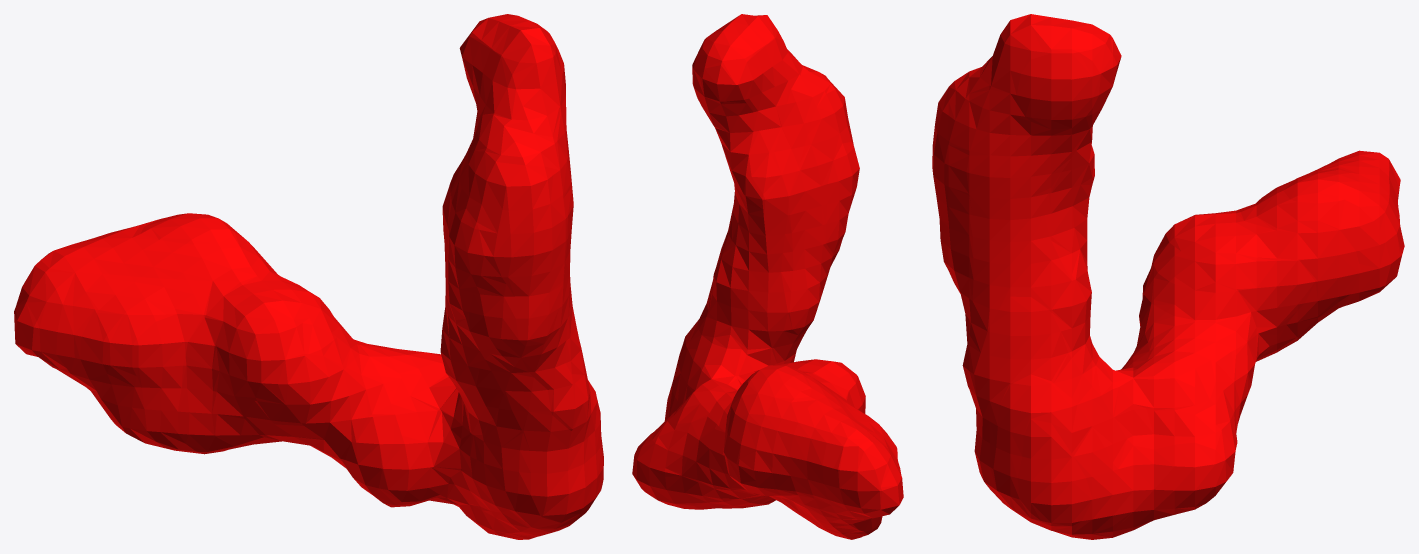
The model's file is rpsU_coarse.dae.
3 renders of one model, left to right at view 1: azimuth 30°, elevation 25°; view 2: azimuth 150°, elevation 25°; view 3: azimuth 270°, elevation 25°, orthographic. The views are drawn at different scales.
Parts seen in each view (by area): view 1: rpsU; view 2: rpsU; view 3: rpsU.
Boxes of the visible parts, x1=… form: rpsU: x1=14, y1=14, x2=603, y2=539; rpsU: x1=632, y1=14, x2=903, y2=539; rpsU: x1=932, y1=14, x2=1404, y2=539.
Size of the model in its own units: 47.38 by 57.21 by 47.85.
